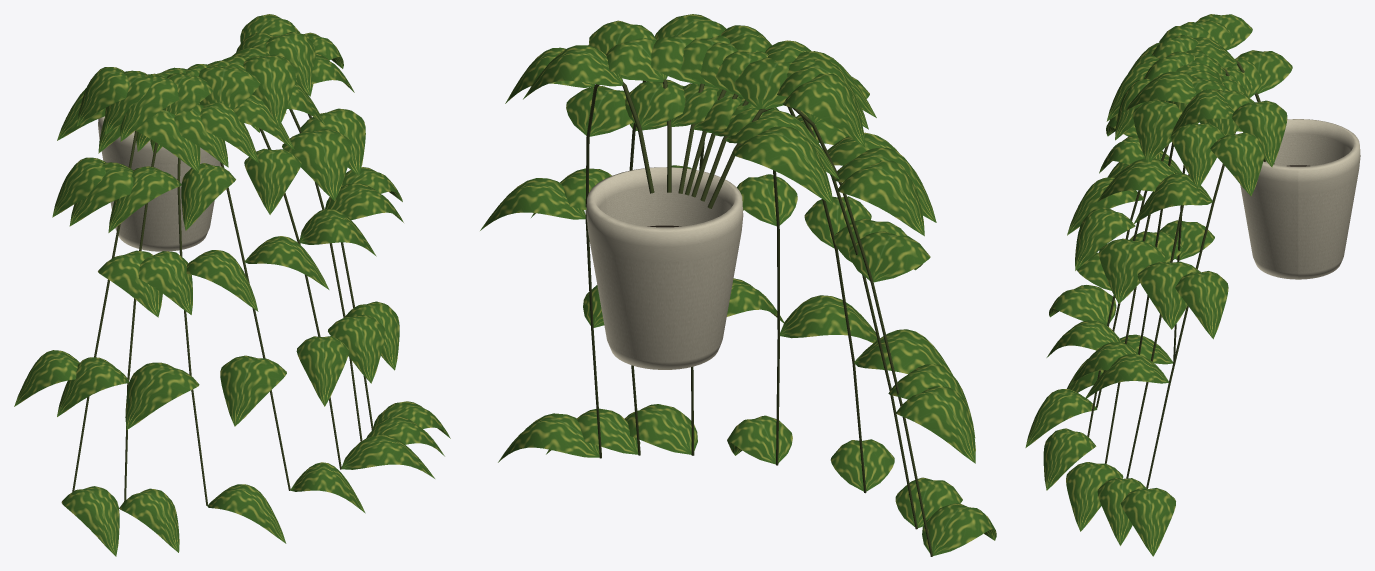
File: cozy-pothos.glb
The picture shows the model from 3 angles, left to right: view 1: azimuth 30°, elevation 25°; view 2: azimuth 150°, elevation 25°; view 3: azimuth 270°, elevation 25°; orthographic projection. The views are drawn at different scales.
Parts seen in each view (by area): view 1: cozy-pothos - Pothos leaf, cozy-pothos - Warm ivory ceramic, cozy-pothos - Botanical stems; view 2: cozy-pothos - Pothos leaf, cozy-pothos - Warm ivory ceramic, cozy-pothos - Botanical stems; view 3: cozy-pothos - Pothos leaf, cozy-pothos - Warm ivory ceramic, cozy-pothos - Botanical stems.
Part boxes in pixels (<box>): cozy-pothos - Pothos leaf: <box>14,14,450,556</box>; cozy-pothos - Warm ivory ceramic: <box>98,116,220,251</box>; cozy-pothos - Botanical stems: <box>72,109,373,505</box>; cozy-pothos - Pothos leaf: <box>480,14,996,555</box>; cozy-pothos - Warm ivory ceramic: <box>586,167,743,369</box>; cozy-pothos - Botanical stems: <box>585,79,932,556</box>; cozy-pothos - Pothos leaf: <box>1025,14,1292,556</box>; cozy-pothos - Warm ivory ceramic: <box>1240,119,1360,279</box>; cozy-pothos - Botanical stems: <box>1087,60,1274,488</box>.
Bounding box in the file's own units: 0.4453 × 0.4258 × 0.3234.
4 materials, 3 textured.
